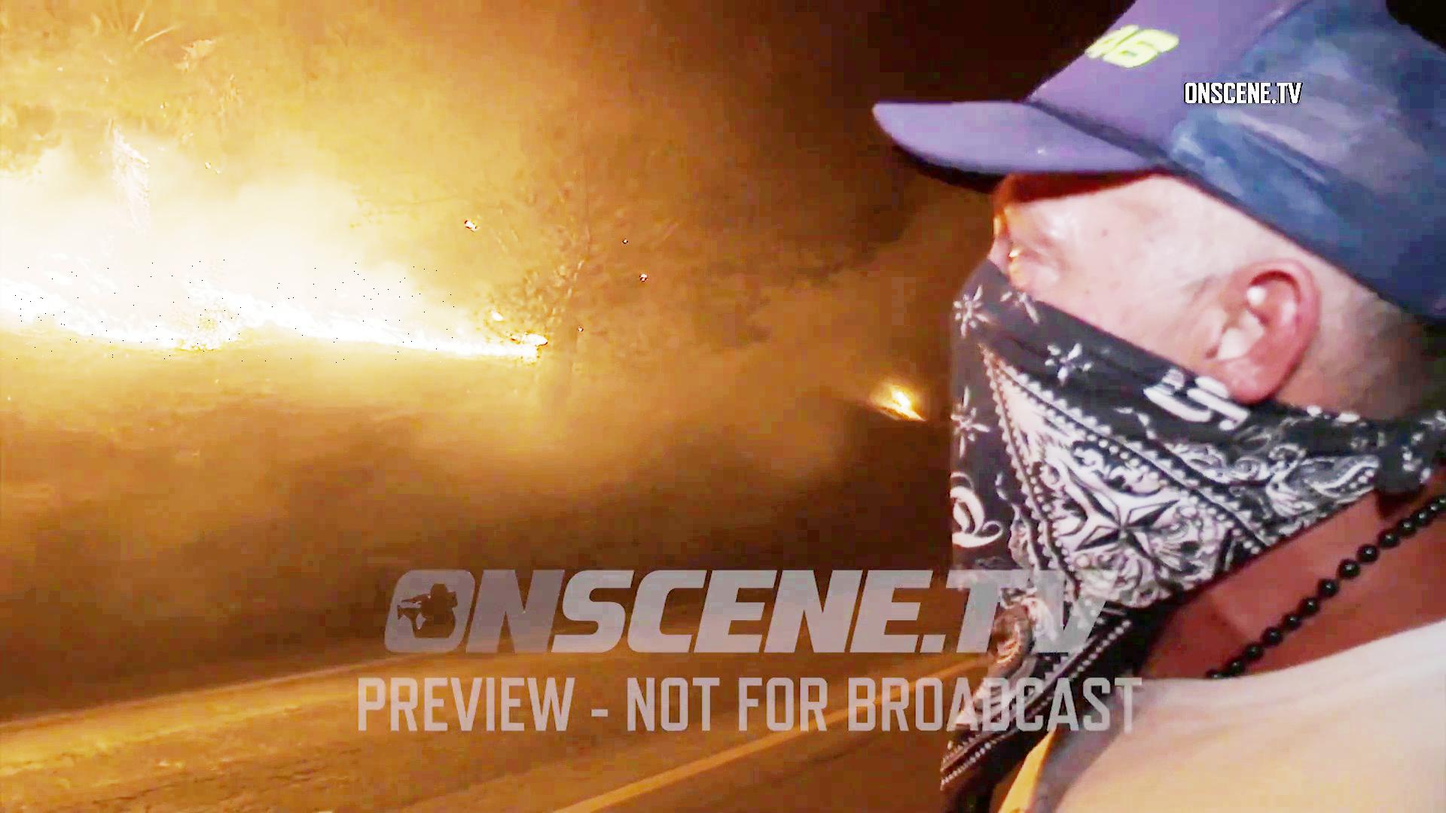fire: (0, 257, 456, 363)
